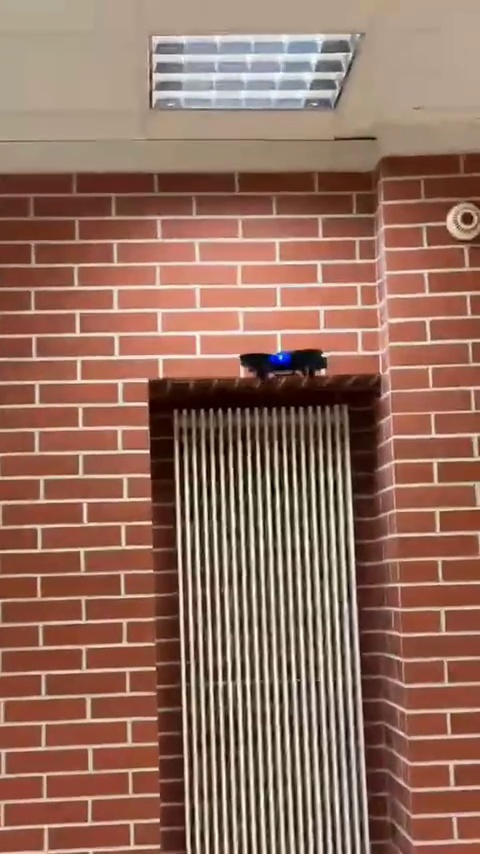drone: (239, 348, 325, 376)
